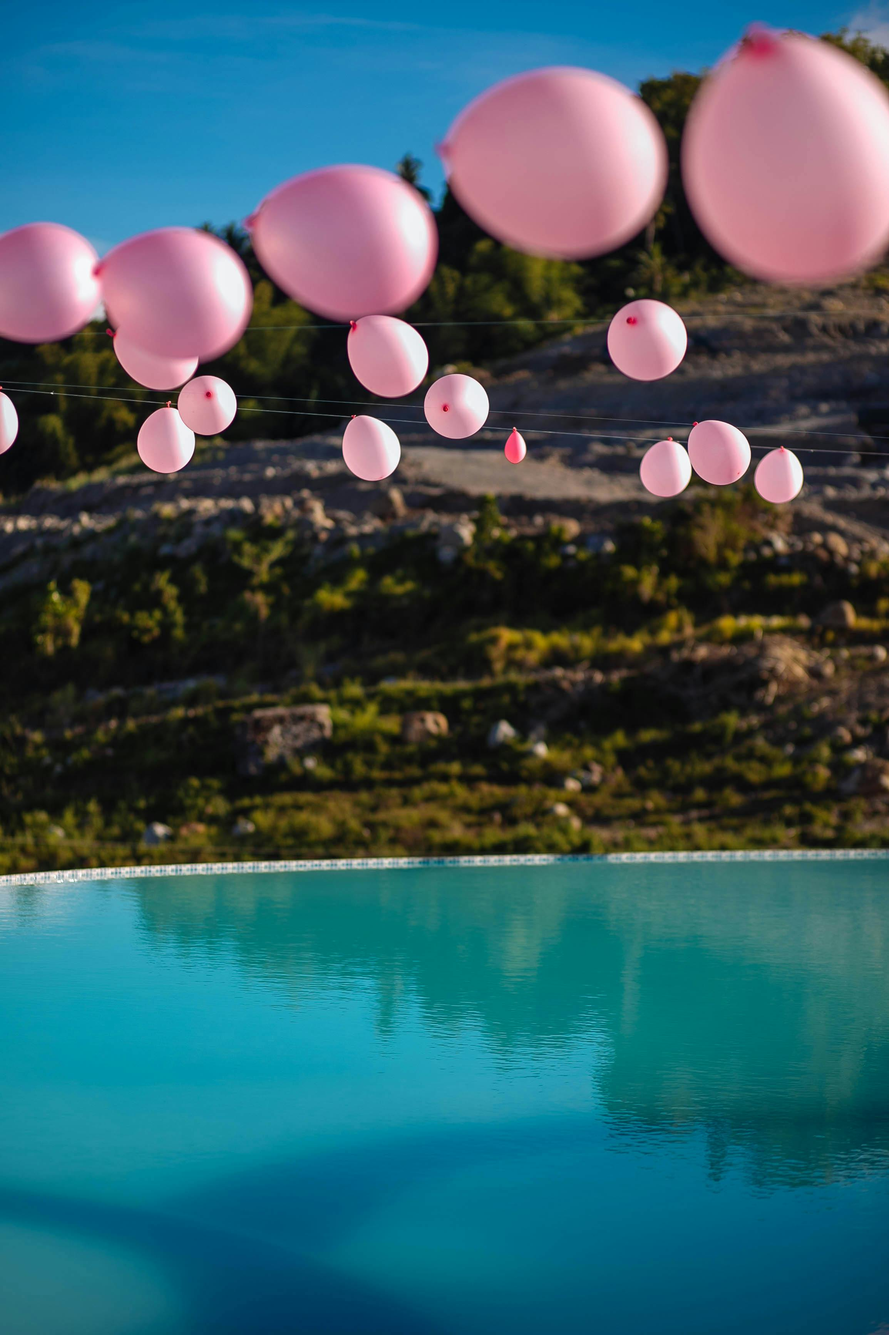balloon: (682, 30, 889, 287), (441, 69, 666, 259), (250, 166, 436, 321), (98, 228, 251, 360), (0, 223, 103, 342), (347, 316, 428, 397), (608, 300, 686, 380), (113, 333, 198, 390), (424, 374, 489, 439), (688, 420, 751, 485), (342, 416, 400, 481), (137, 408, 195, 473), (177, 376, 236, 435), (640, 439, 691, 497), (754, 447, 803, 503), (0, 392, 18, 454)
